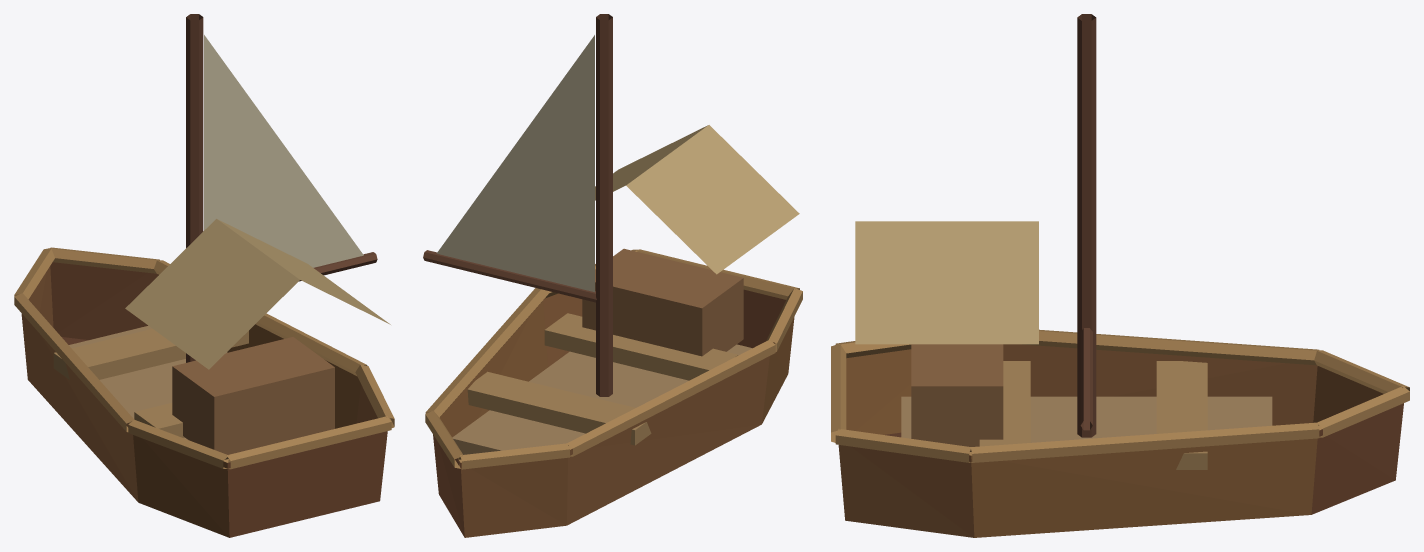
3 views of the same model, side by side, from view 1: azimuth 30°, elevation 25°; view 2: azimuth 150°, elevation 25°; view 3: azimuth 270°, elevation 25° (orthographic). The views are drawn at different scales.
Parts seen in each view (by area): view 1: H07_遮篷货舟; view 2: H07_遮篷货舟; view 3: H07_遮篷货舟.
Part boxes in pixels (x1=…): H07_遮篷货舟: x1=14, y1=14, x2=394, y2=537; H07_遮篷货舟: x1=423, y1=14, x2=802, y2=537; H07_遮篷货舟: x1=831, y1=14, x2=1409, y2=537.
Bounding box in the file's own units: 1.12 × 1.5 × 1.7.
